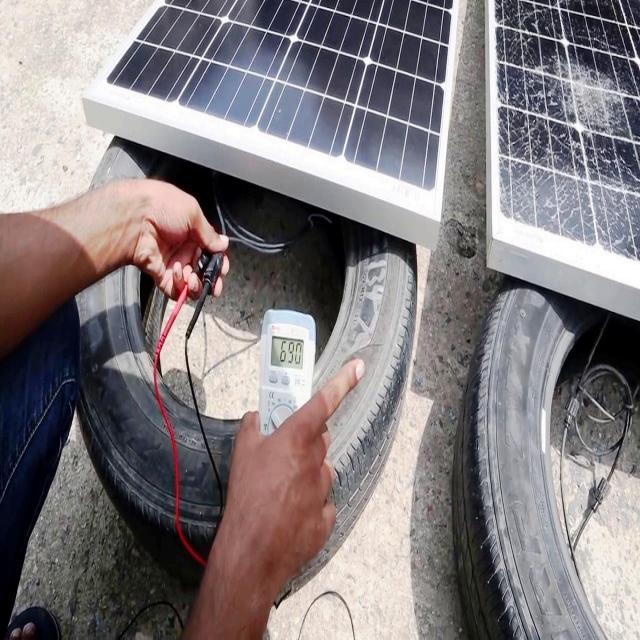faulty: (483, 6, 640, 264)
no faulty: (103, 0, 464, 237)
